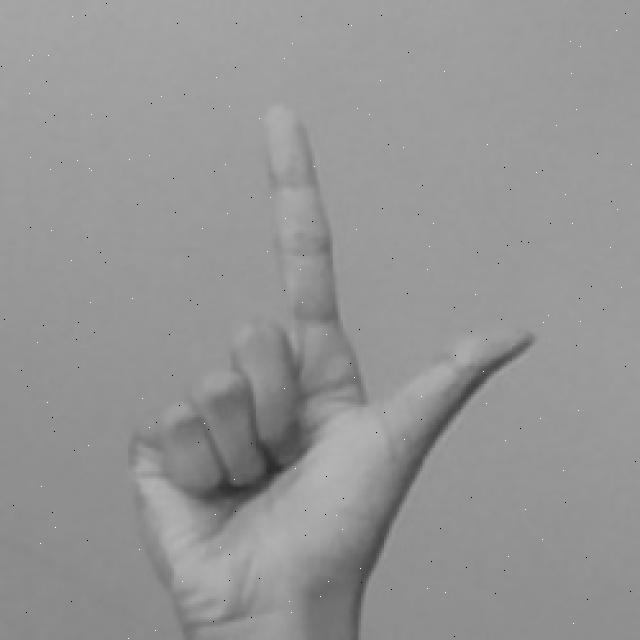L: (118, 100, 538, 640)
